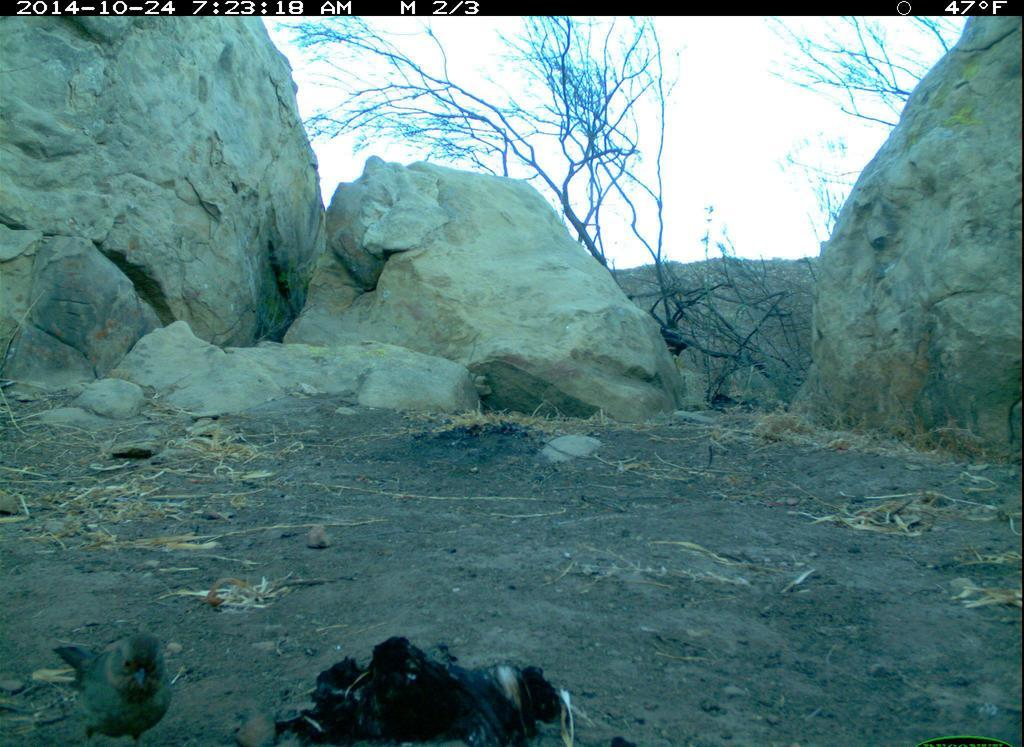bird: (49, 622, 177, 747)
